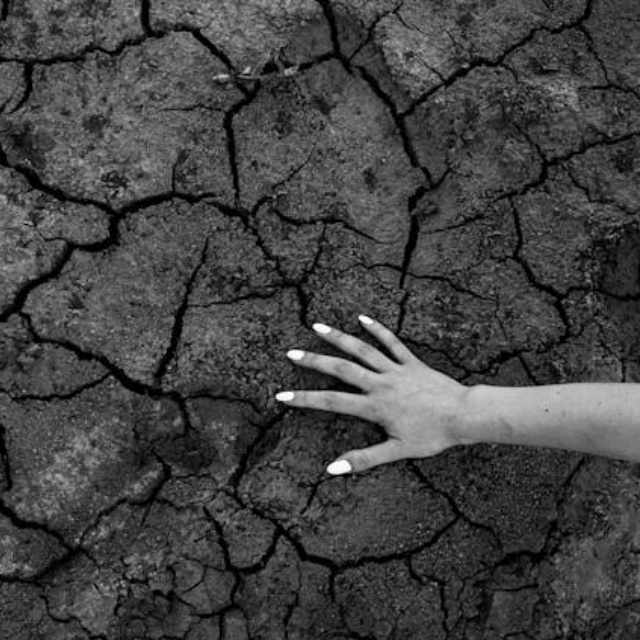网状裂隙: (0, 0, 500, 640)
